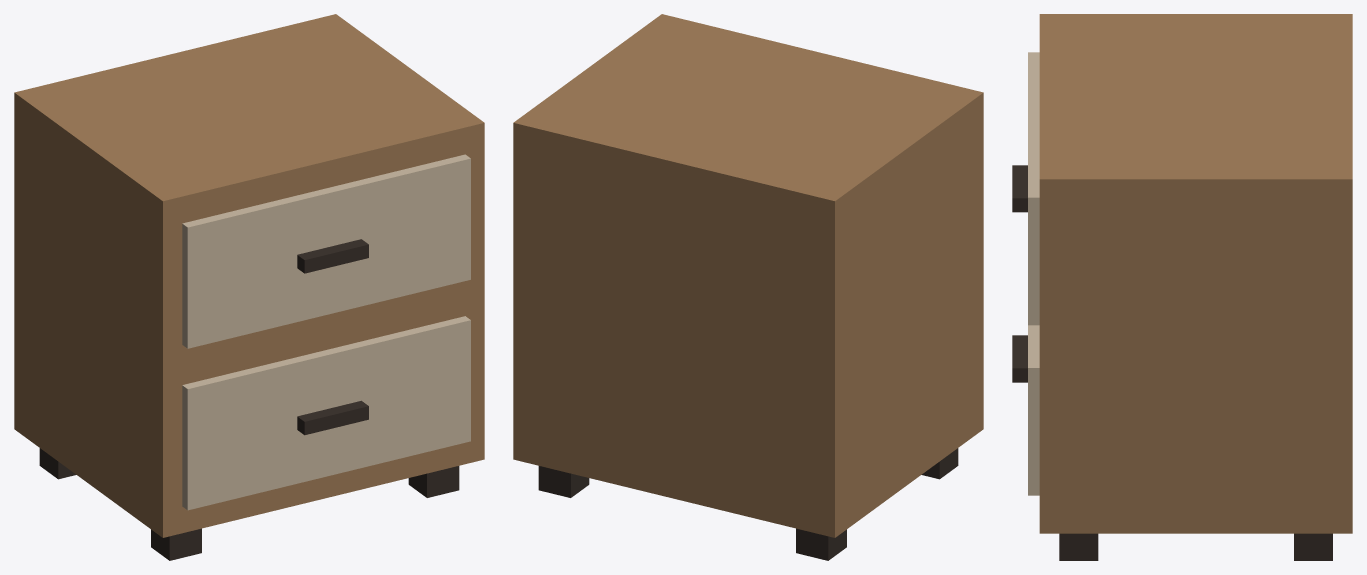
Rendered from nightstand.glb.
3 views of the same model, side by side, from view 1: azimuth 30°, elevation 25°; view 2: azimuth 150°, elevation 25°; view 3: azimuth 270°, elevation 25° (orthographic). The views are drawn at different scales.
Parts seen in each view (by area): view 1: nightstand; view 2: nightstand; view 3: nightstand.
Boxes of the visible parts, x1,y1,x2,y2 form: nightstand: (14,14,484,560); nightstand: (513,14,983,560); nightstand: (1012,14,1352,560).
Bounding box in the file's own units: 0.5 × 0.55 × 0.435.
